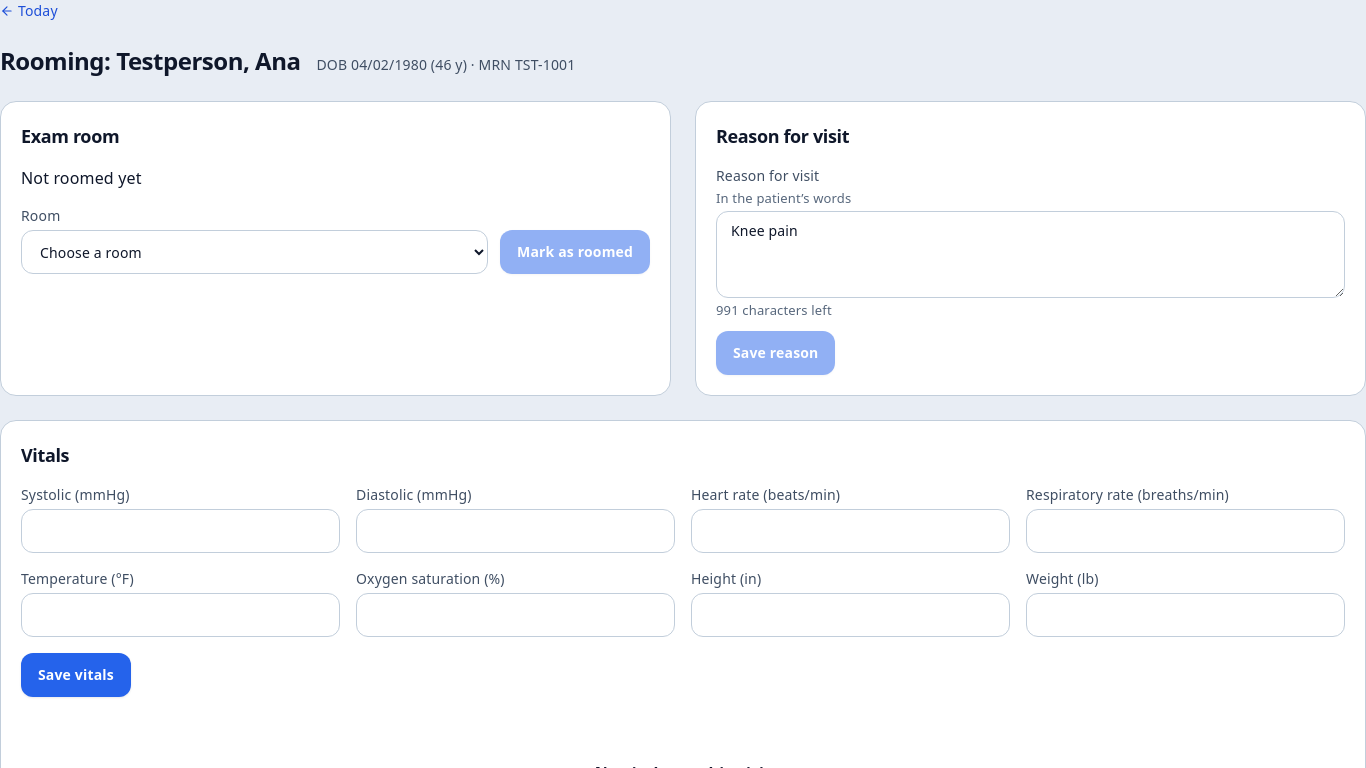
Scenario: RoomingPage › records vitals in the units entered, with an Idempotency-Key, and shows the server’s flags
The width and height of the screenshot is (1366, 768).
Type "152" into the field labelled "Systolic (mmHg)" at (180, 531), box x1=21 y1=509 x2=340 y2=553
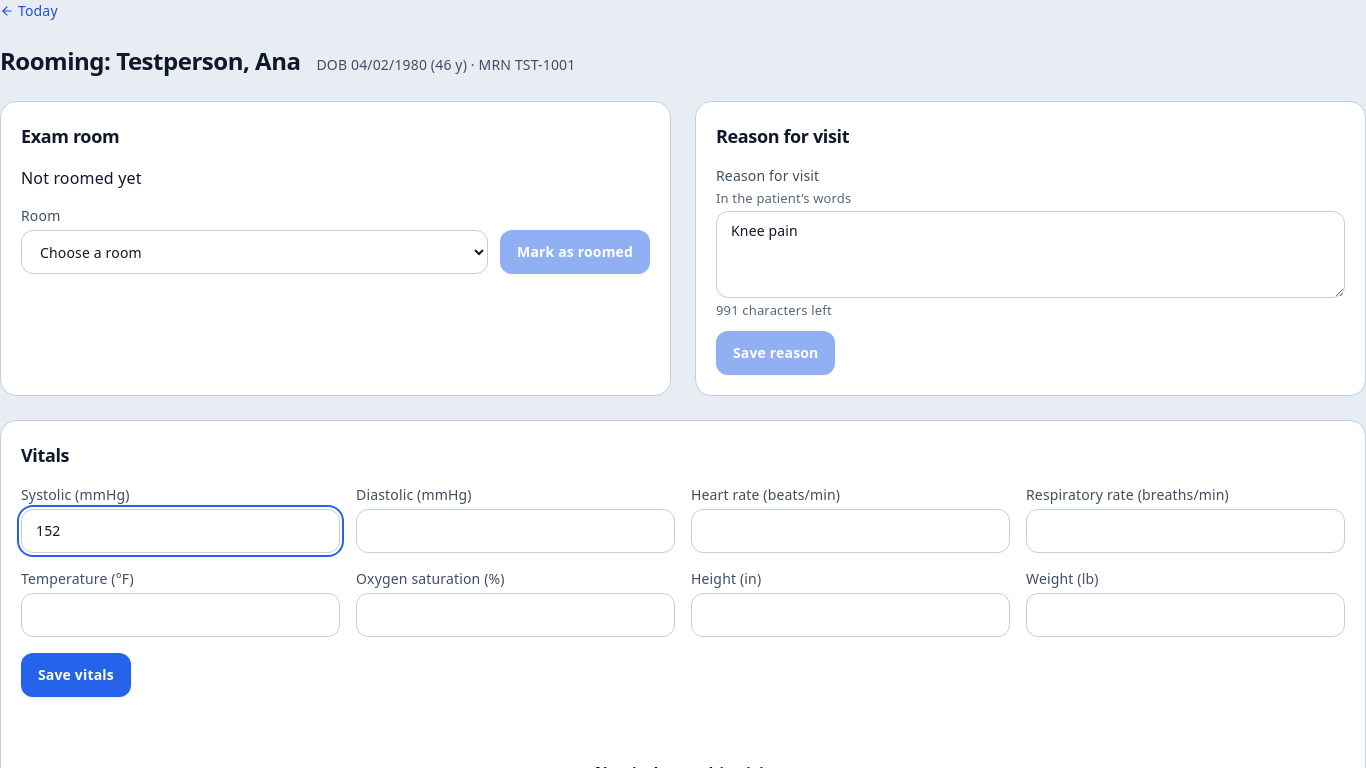
Type "95" into the field labelled "Diastolic (mmHg)" at (516, 531), box x1=356 y1=509 x2=675 y2=553
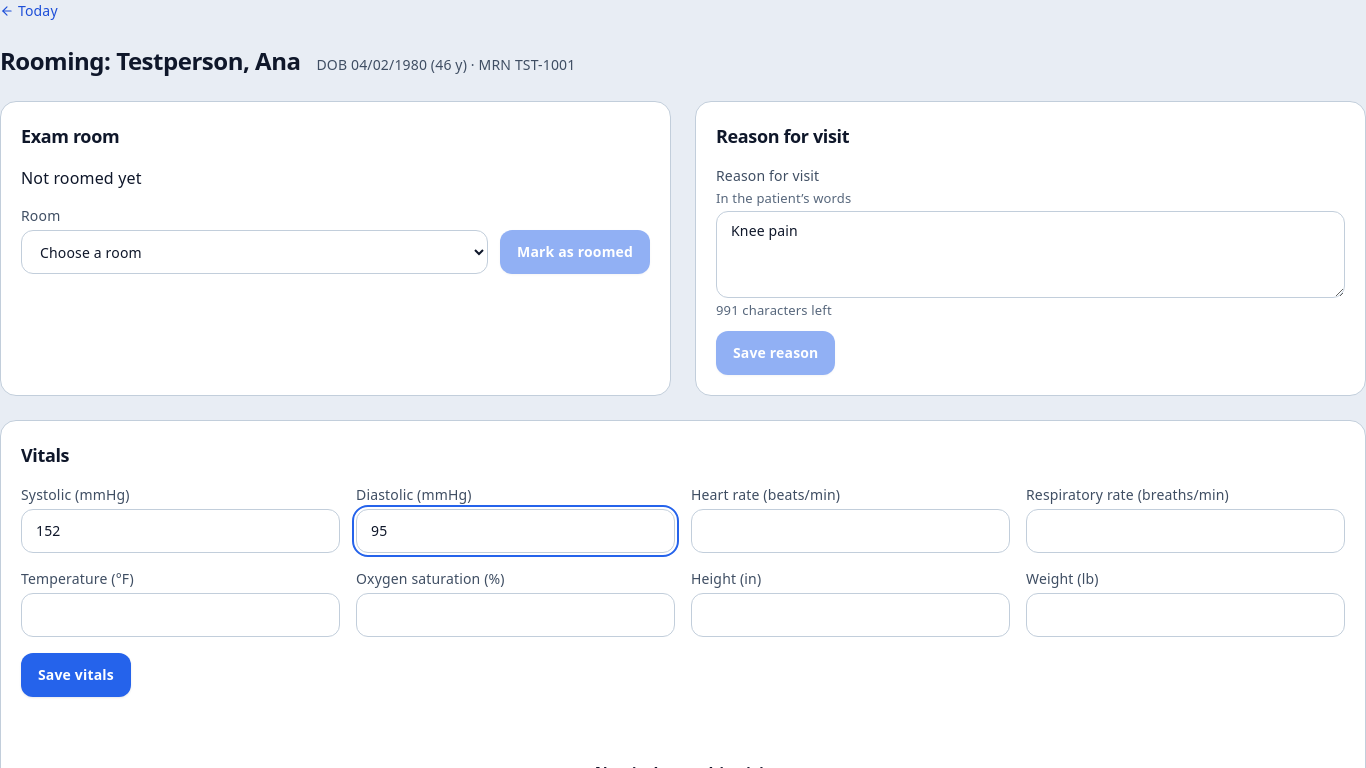
Type "98.6" into the field labelled "Temperature (°F)" at (180, 615), box x1=21 y1=593 x2=340 y2=637
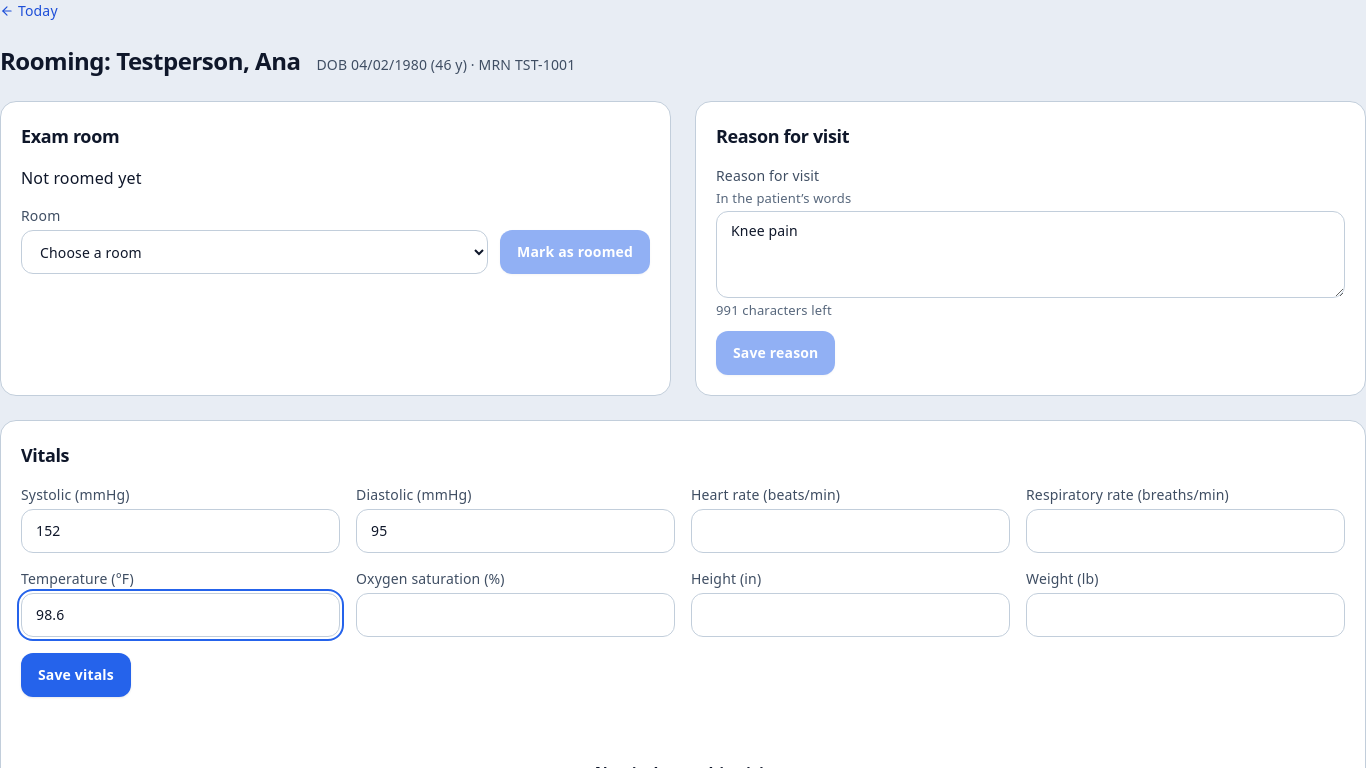
Click the button "Save vitals" at (76, 675), box x1=21 y1=653 x2=131 y2=697
(page scrolled)
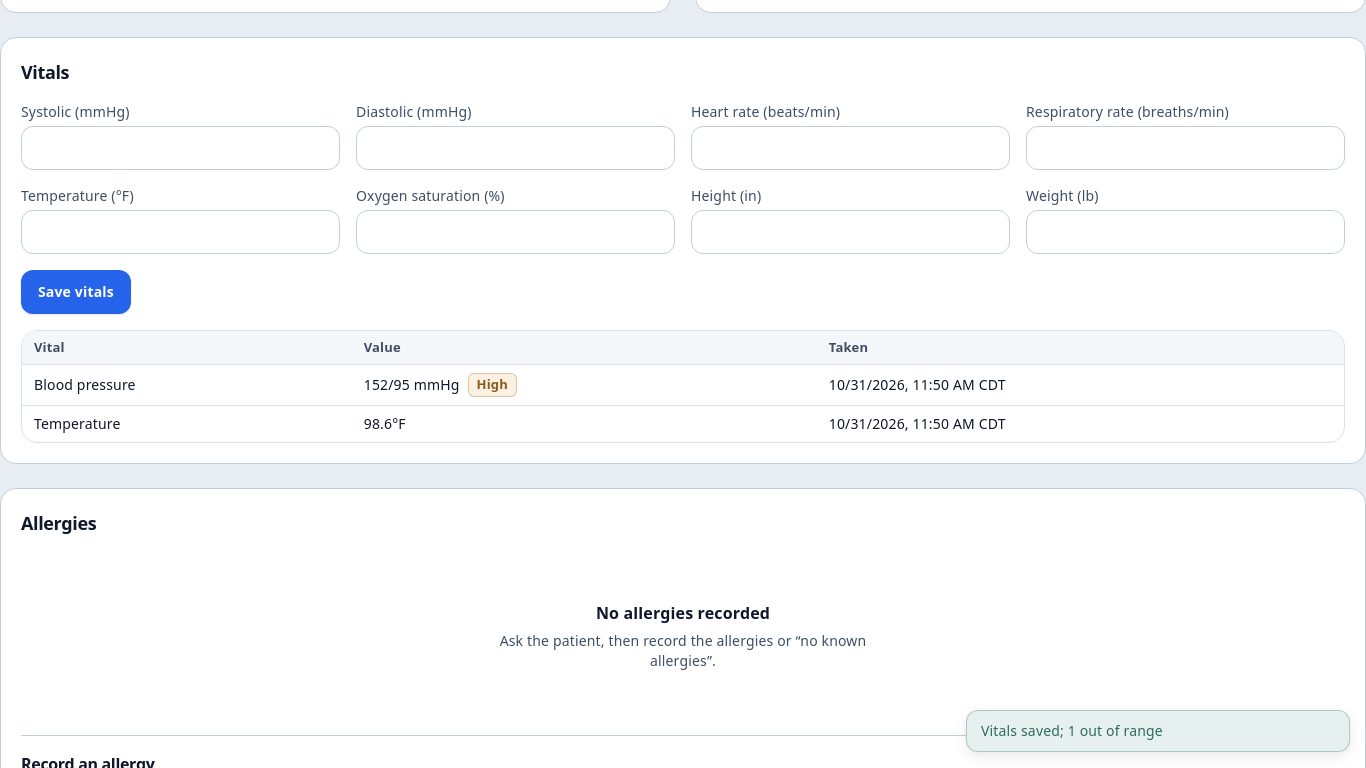
Expected: the text "Vitals saved; 1 out of range" is shown, x1=966 y1=710 x2=1350 y2=752
Expected: the text "152/95 mmHg" is shown, x1=364 y1=375 x2=460 y2=395
Expected: the text "High" is shown, x1=468 y1=373 x2=517 y2=396
